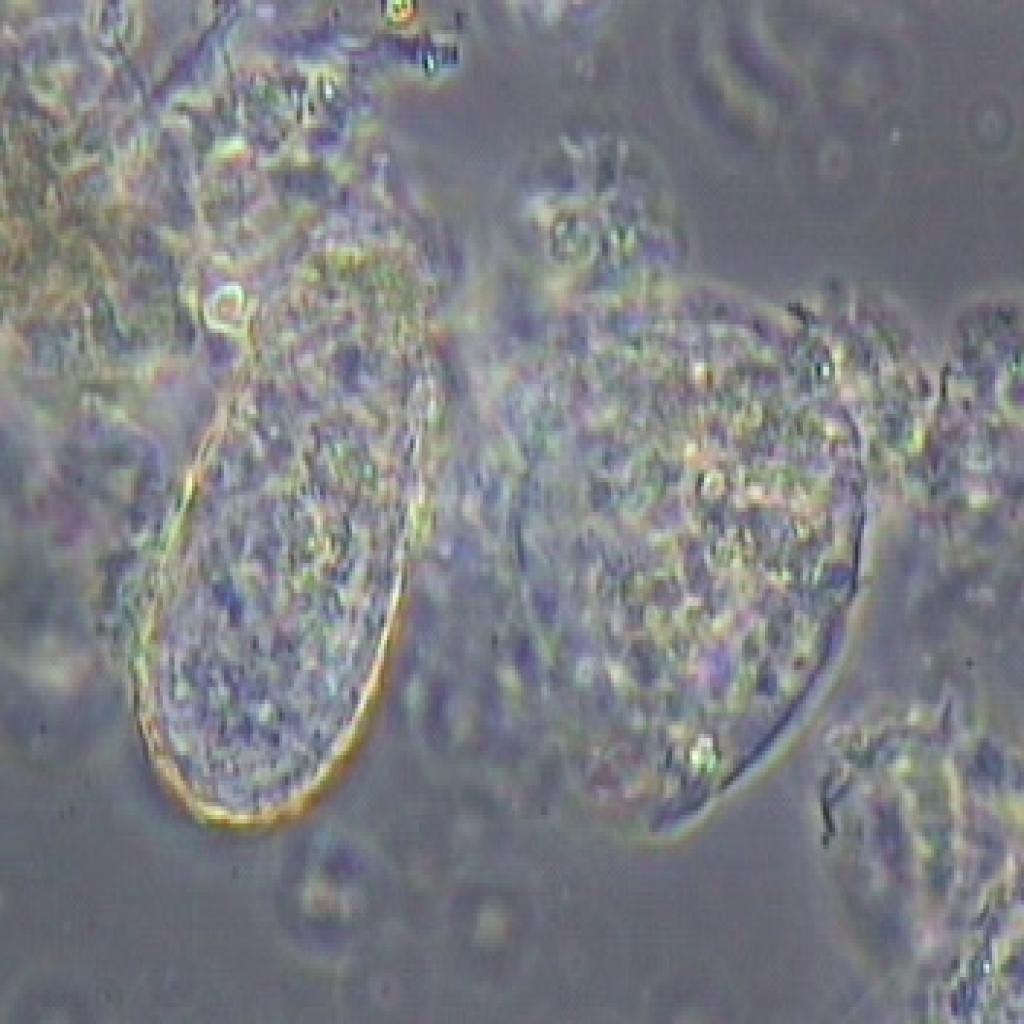Euglypha: (121, 235, 438, 849)
